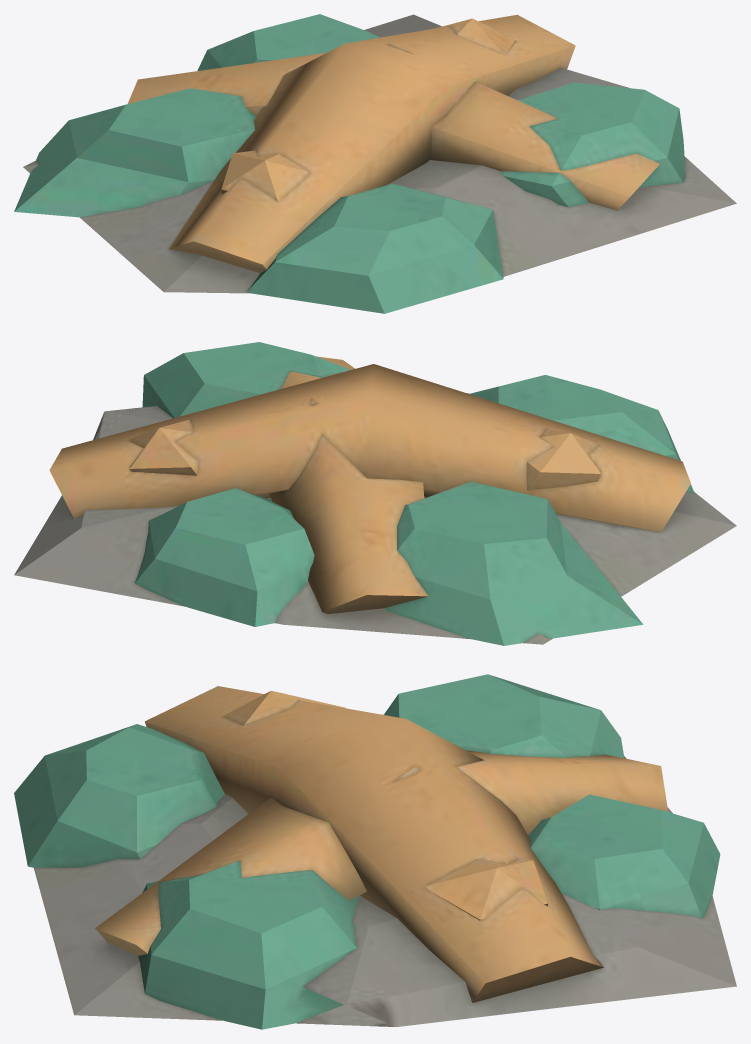
The model's file is jazida_cobre.glb.
3 views of the same model, one above another, from view 1: azimuth 30°, elevation 25°; view 2: azimuth 150°, elevation 25°; view 3: azimuth 270°, elevation 25° (orthographic). The views are drawn at different scales.
Parts seen in each view (by area): view 1: jazida_cobre_corpo; view 2: jazida_cobre_corpo; view 3: jazida_cobre_corpo.
Part boxes in pixels (x1,y1,x2,y2): jazida_cobre_corpo: (14, 14, 736, 313); jazida_cobre_corpo: (14, 342, 736, 645); jazida_cobre_corpo: (14, 674, 736, 1029).
Size of the model in its own units: 0.82 by 0.19 by 0.7375.
Materials: 1 (1 with a texture image).
